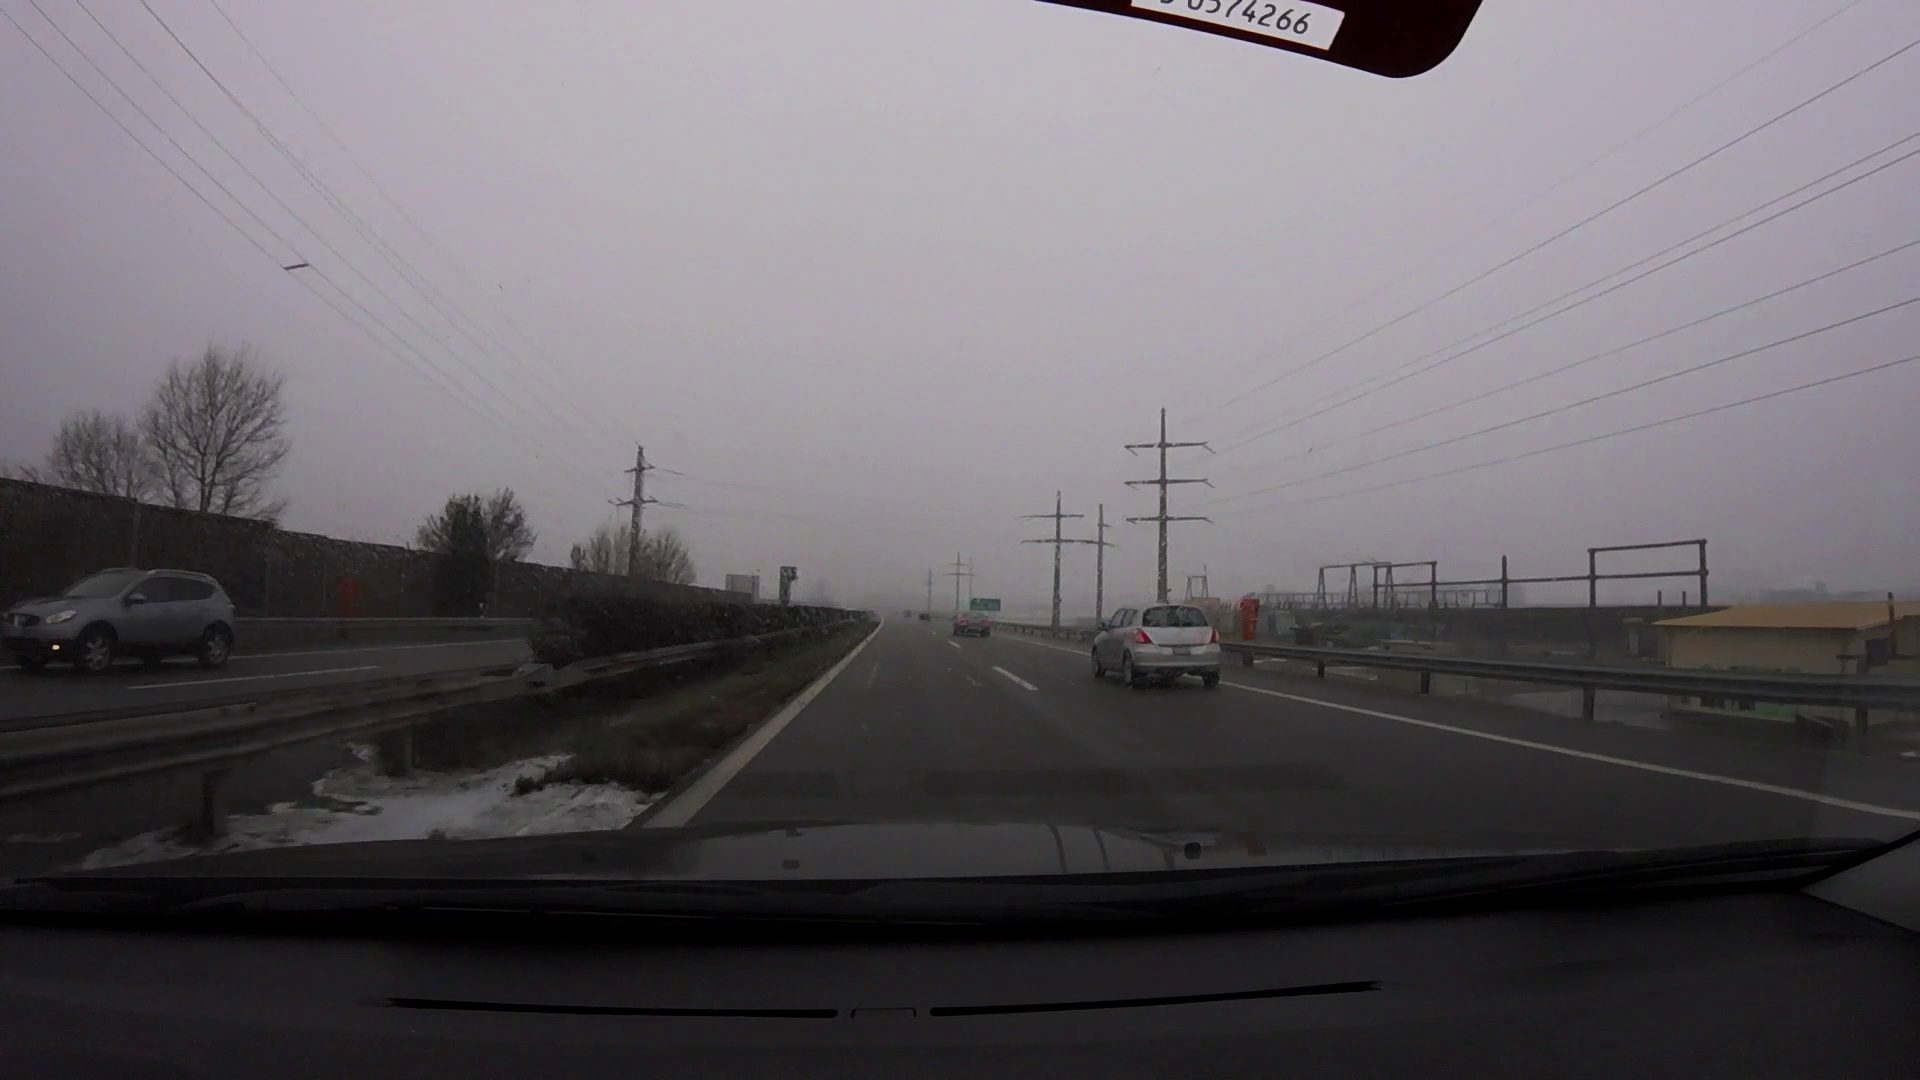radar: (777, 564, 802, 607)
